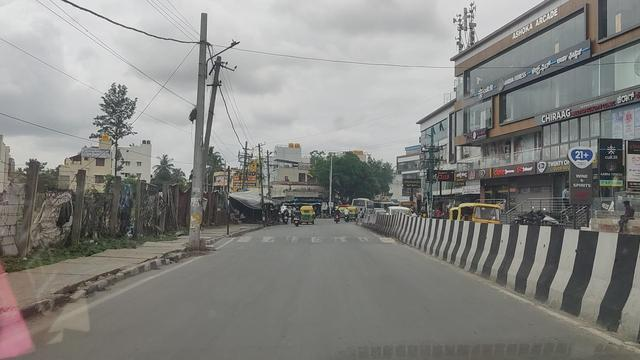SpeedBump: (242, 233, 387, 244)
